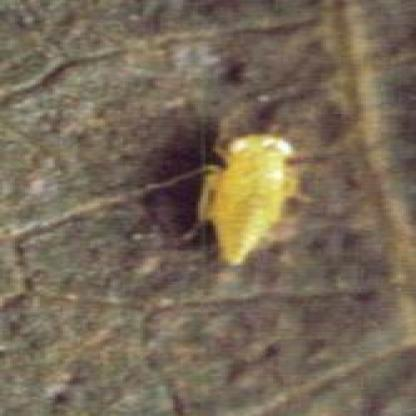Green-Leafhopper: (174, 118, 316, 274)
